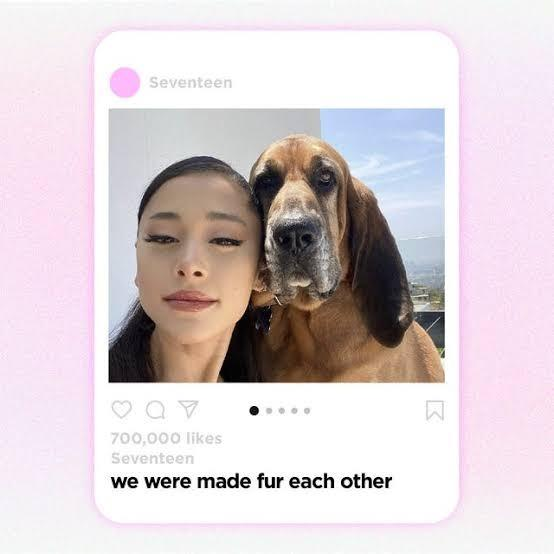adult_dog: (248, 133, 445, 384)
non-dog: (109, 156, 275, 383)
